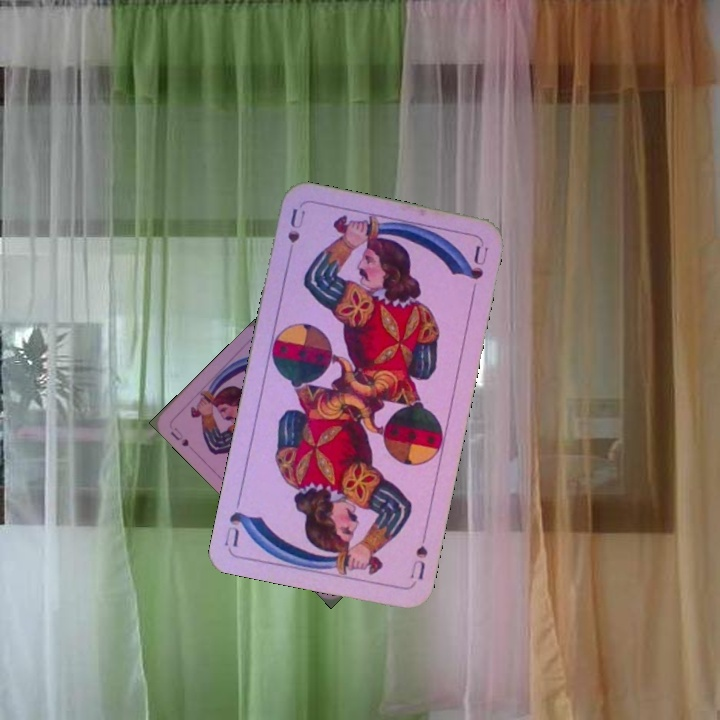SU: (406, 527, 431, 583), (283, 204, 308, 246), (166, 423, 191, 449)
